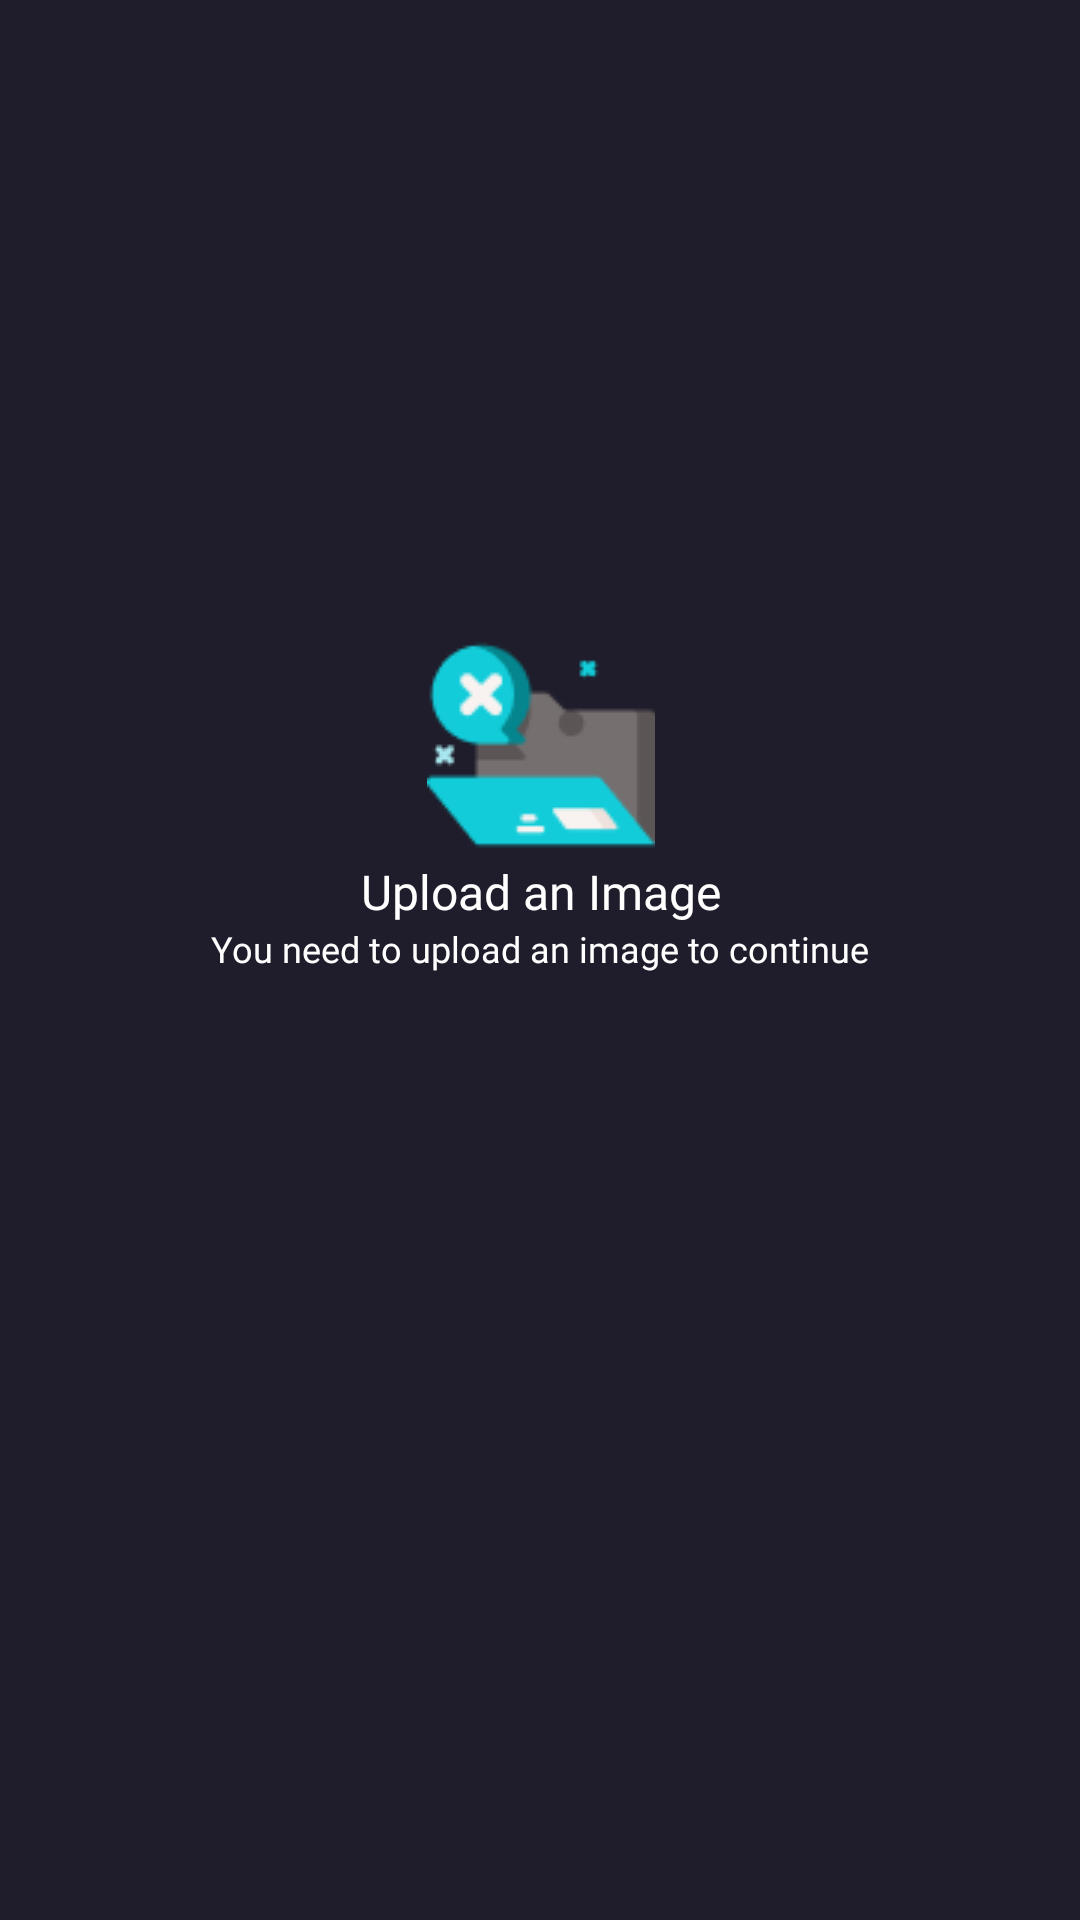

Icon click points for this 1080x1920 phone screenshot, format [x,y]:
Projects folder Icon: [541,745]
